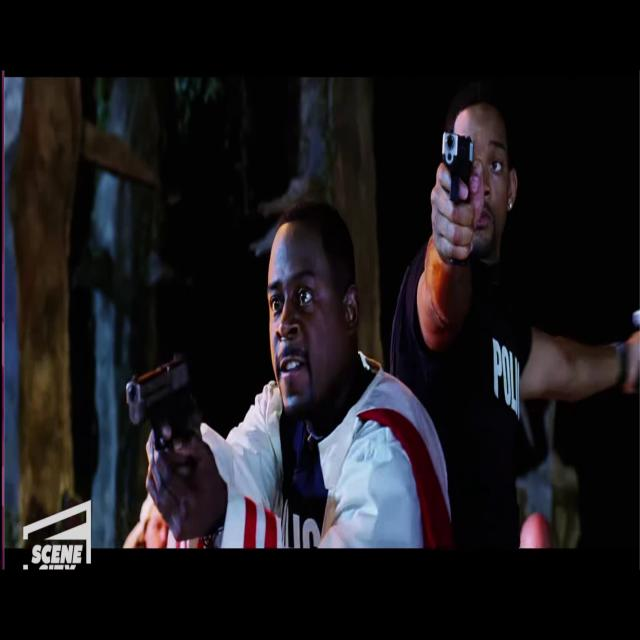weapons: (116, 339, 217, 492), (427, 113, 481, 258)
